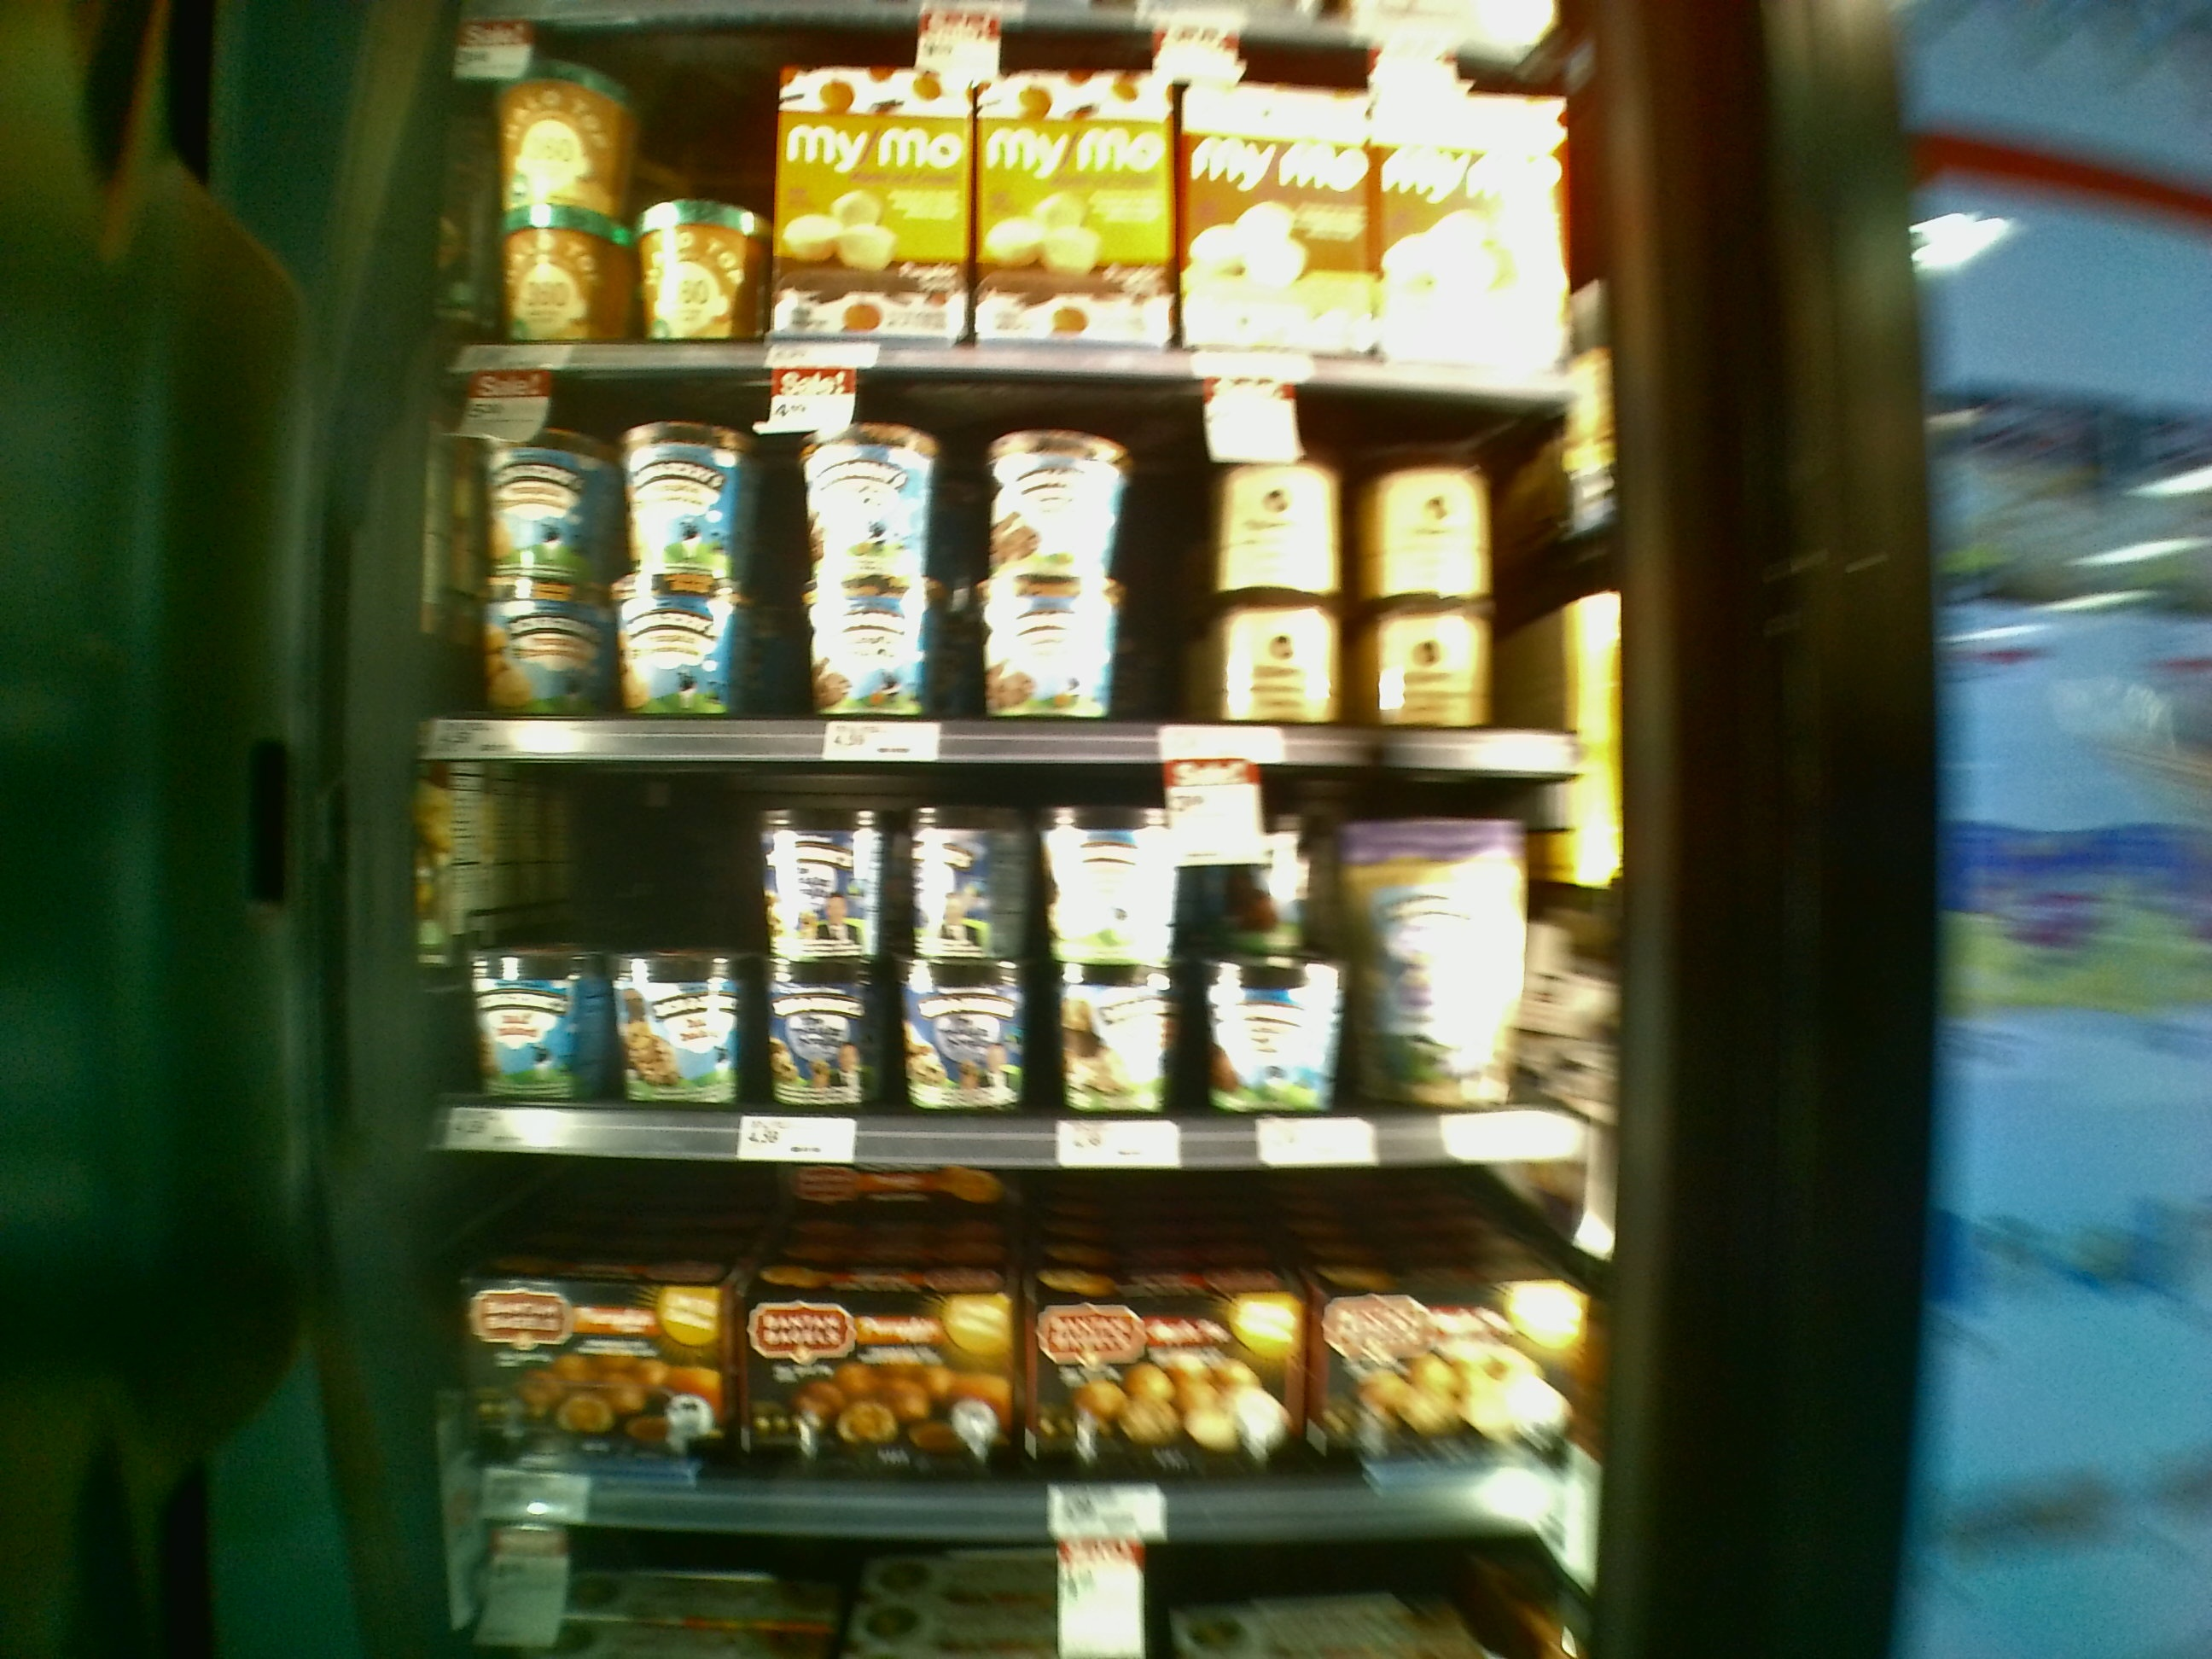shelf: (415, 721, 1597, 1176), (397, 1121, 1583, 1544), (427, 343, 1604, 758)
